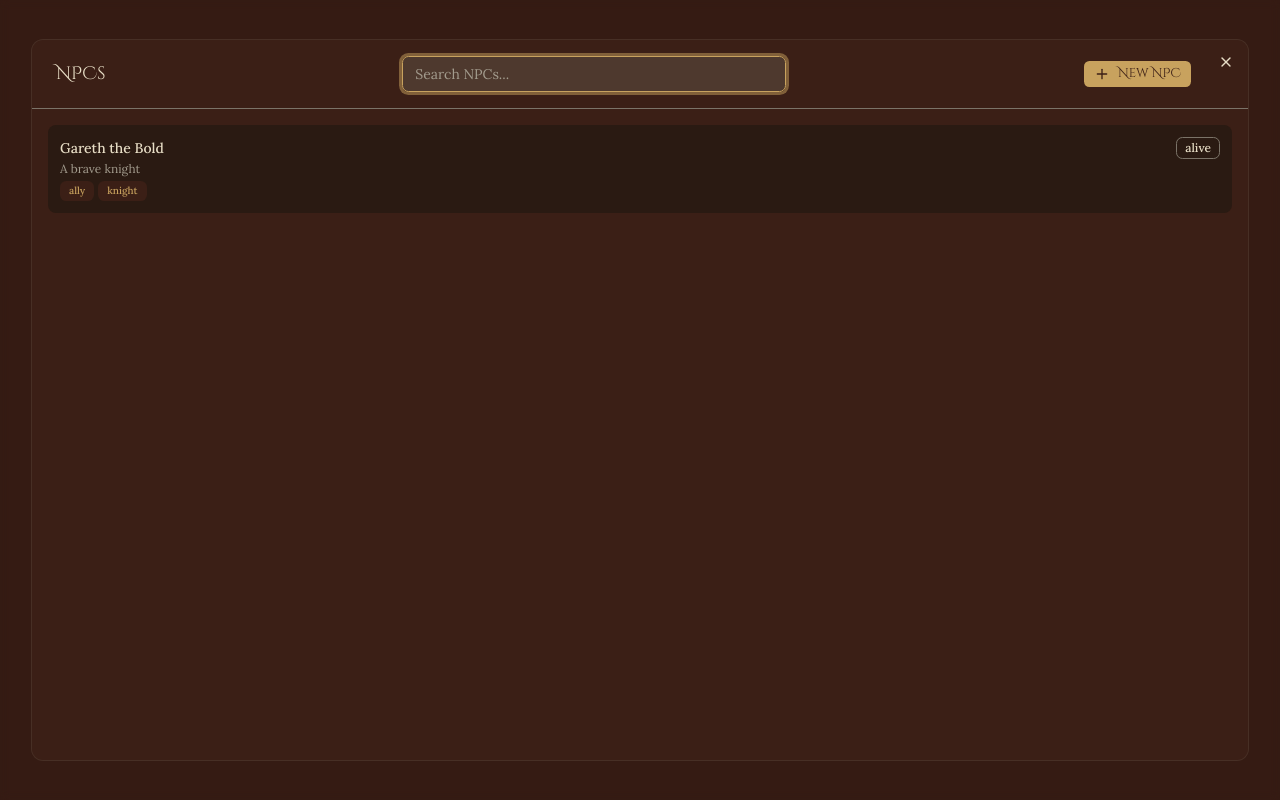
NpcModal › NPC Detail - Tabs › shows General tab by default with description and notes
The image size is (1280, 800).
Click the text "Gareth the Bold": (112, 148) 60,138 -> 164,158
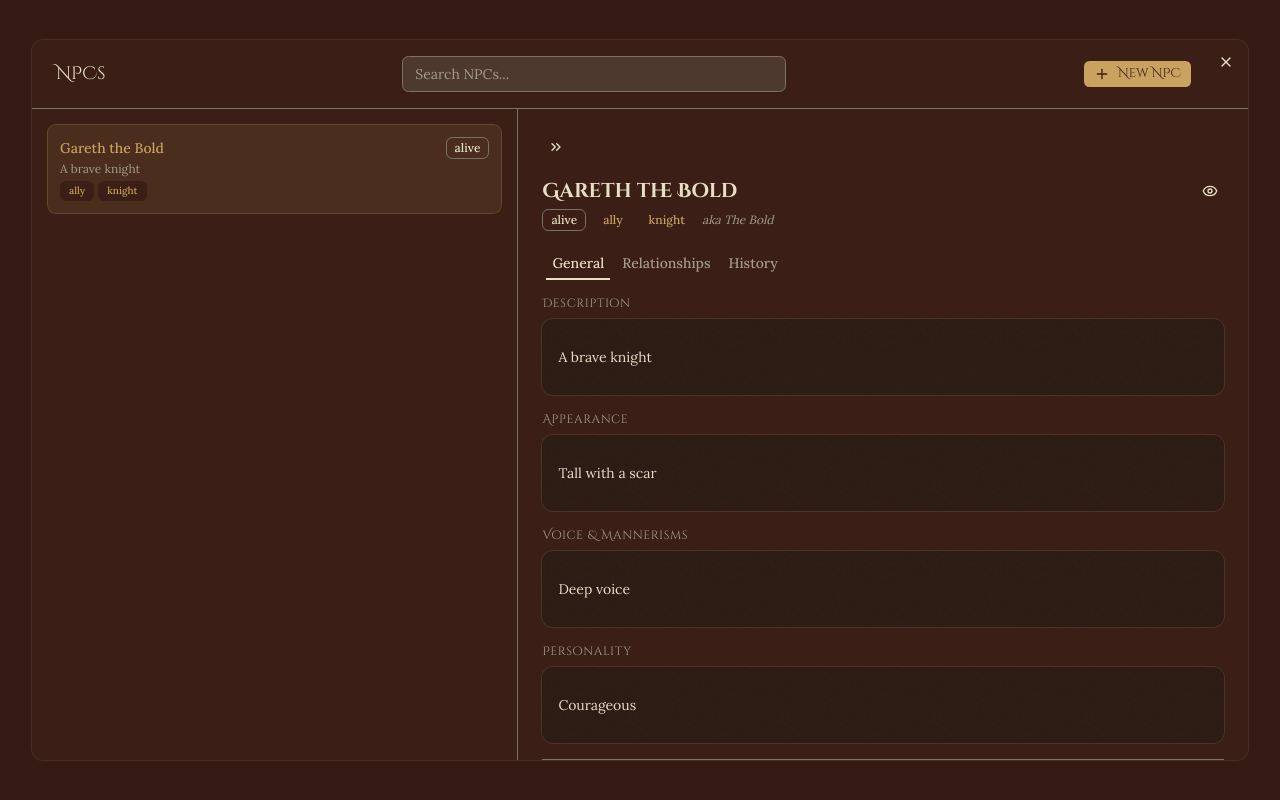
Now the tab "General" is shown, box 545,250 -> 611,276
Now the tab "Relationships" is shown, box 615,250 -> 718,276
Now the tab "History" is shown, box 722,250 -> 785,276
